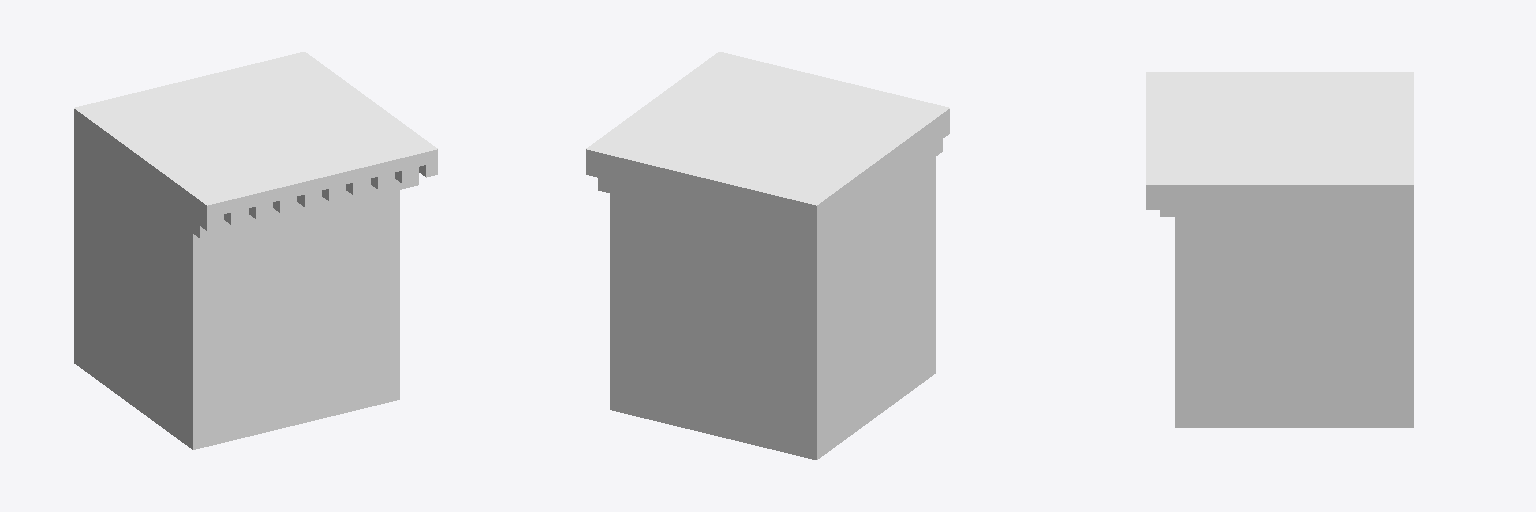
Rendered from Counter_Corner_new.obj.
3 renders of one model, left to right at view 1: azimuth 30°, elevation 25°; view 2: azimuth 150°, elevation 25°; view 3: azimuth 270°, elevation 25°, orthographic.
Visible parts, largest first — view 1: object 1; view 2: object 1; view 3: object 1.
Part boxes in pixels (x1,y1,x2,y2): object 1: (74,52,437,449); object 1: (586,52,949,459); object 1: (1146,72,1413,427).
Bounding box in the file's own units: 1.9 × 2 × 1.9.